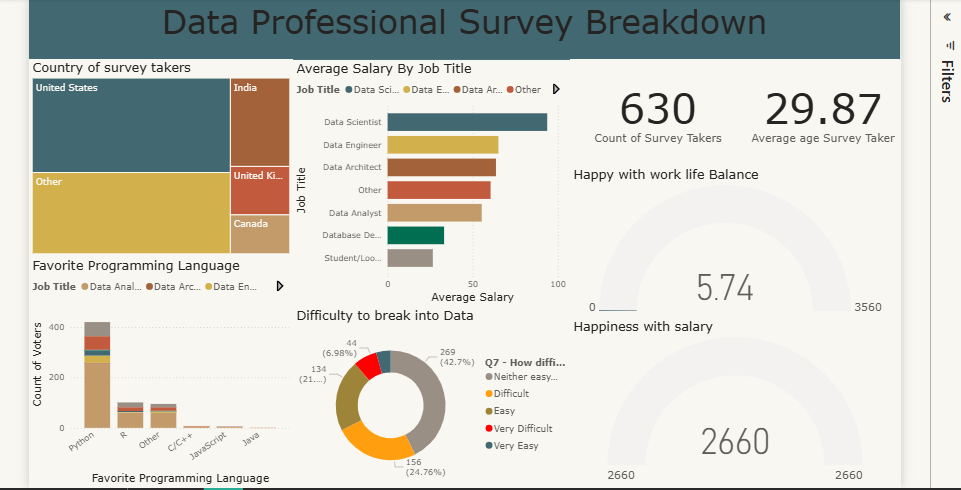

The dashboard page shown, as its layout file describes it:
{"tool":"powerbi","page":{"name":"Page 1","canvas":[1280,720],"ordinal":0},"visuals":[{"type":"textbox","box":[0,0,1279.8,91.1],"z":0},{"type":"card","fields":{"Values":["Count(Data Professional Survey.Unique ID)"]},"box":[794.9,89.6,258.6,157.2],"z":1000},{"type":"card","fields":{"Values":["Avg(Data Professional Survey.Q10 - Current Age)"]},"box":[1053.6,89.6,226.3,157.2],"z":2000},{"type":"barChart","title":"Average Salary By Job Title ","fields":{"Category":["Data Professional Survey.Q1 - Which Title Best Fits your Current Role?.1"],"Y":["Avg(Data Professional Survey.Average Salary)"],"Series":["Data Professional Survey.Q1 - Which Title Best Fits your Current Role?.1"]},"box":[388.2,91.6,406.1,362.3],"z":3000},{"type":"columnChart","title":"Favorite Programming Language","fields":{"Category":["Data Professional Survey.Q5 - Favorite Programming Language.1"],"Y":["CountNonNull(Data Professional Survey.Unique ID)"],"Series":["Data Professional Survey.Q1 - Which Title Best Fits your Current Role?.1"]},"box":[0,380.6,387.9,339.4],"z":4000},{"type":"treemap","title":"Country of survey takers","fields":{"Group":["Data Professional Survey.Q11 - Which Country do you live in?.1"],"Values":["CountNonNull(Data Professional Survey.Q11 - Which Country do you live in?.1)"]},"box":[0,89.6,387.9,290.9],"z":5000},{"type":"gauge","title":"Happy with work life Balance","fields":{"Y":["Avg(Data Professional Survey.Q6 - How Happy are you in your Current Position with the following? (Work/Life Balance))"],"MinValue":["Min(Data Professional Survey.Q6 - How Happy are you in your Current Position with the following? (Work/Life Balance))1"],"MaxValue":["Sum(Data Professional Survey.Q6 - How Happy are you in your Current Position with the following? (Work/Life Balance))2"]},"box":[794.3,246.8,485.7,223],"z":6000},{"type":"gauge","title":"Happiness with salary","fields":{"Y":["Sum(Data Professional Survey.Q6 - How Happy are you in your Current Position with the following? (Salary))"],"MinValue":["Sum(Data Professional Survey.Q6 - How Happy are you in your Current Position with the following? (Salary))"],"MaxValue":["Sum(Data Professional Survey.Q6 - How Happy are you in your Current Position with the following? (Salary))"]},"box":[794.9,470.2,484.9,249.8],"z":7000},{"type":"donutChart","title":"Difficulty to break into Data","fields":{"Category":["Data Professional Survey.Q7 - How difficult was it for you to break into Data?"],"Y":["CountNonNull(Data Professional Survey.Q7 - How difficult was it for you to break into Data?)"]},"box":[387.9,454,407,266],"z":8000}]}

Visuals, with their boxes on the page's 1280x720 design canvas (x1, y1, x2, y2). These are canvas units, not pixel positions in the 961x490 screenshot, which may show the page scaled, cropped or inside an application window:
textbox: x1=0 y1=0 x2=1280 y2=91
card - Count(Data Professional Survey.Unique ID): x1=795 y1=90 x2=1054 y2=247
card - Avg(Data Professional Survey.Q10 - Current Age): x1=1054 y1=90 x2=1280 y2=247
"Average Salary By Job Title " barChart: x1=388 y1=92 x2=794 y2=454
"Favorite Programming Language" columnChart: x1=0 y1=381 x2=388 y2=720
"Country of survey takers" treemap: x1=0 y1=90 x2=388 y2=380
"Happy with work life Balance" gauge: x1=794 y1=247 x2=1280 y2=470
"Happiness with salary" gauge: x1=795 y1=470 x2=1280 y2=720
"Difficulty to break into Data" donutChart: x1=388 y1=454 x2=795 y2=720
